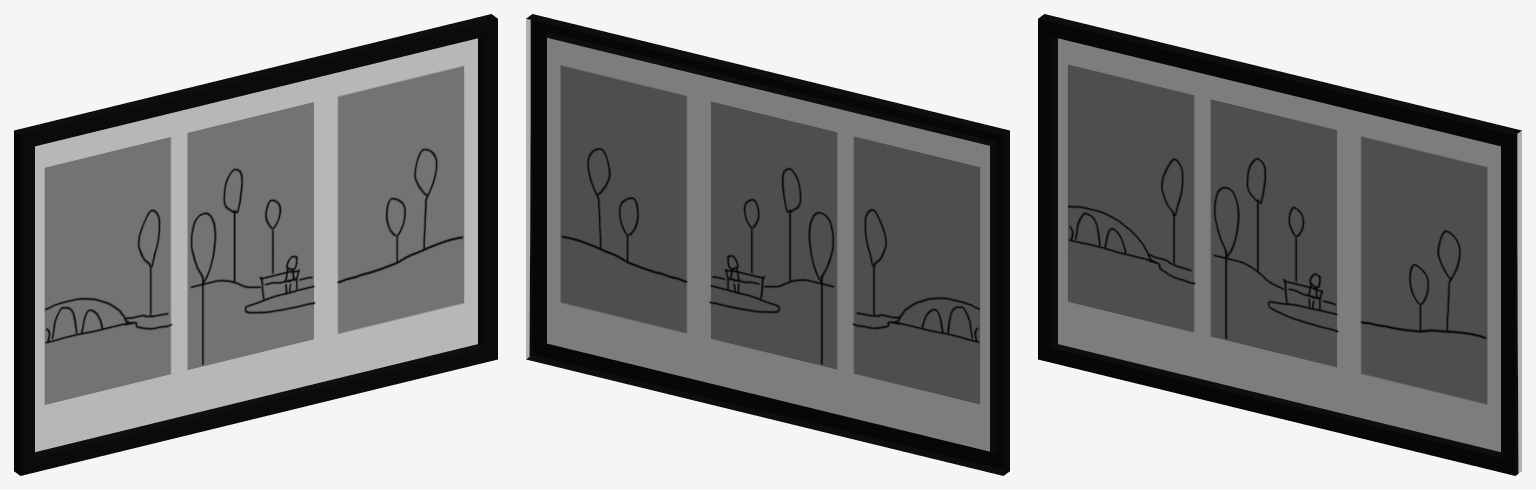
Rendered from PhotosOnWall.fbx.
The picture shows the model from 3 angles, left to right: view 1: azimuth 30°, elevation 25°; view 2: azimuth 150°, elevation 25°; view 3: azimuth 330°, elevation 25°; orthographic projection.
Parts seen in each view (by area): view 1: Photos; view 2: Photos; view 3: Photos.
Boxes of the visible parts, x1=… form: Photos: x1=14, y1=14, x2=497, y2=475; Photos: x1=526, y1=14, x2=1009, y2=475; Photos: x1=1038, y1=14, x2=1521, y2=475.
Size of the model in its own units: 141 by 96.02 by 3.3.
